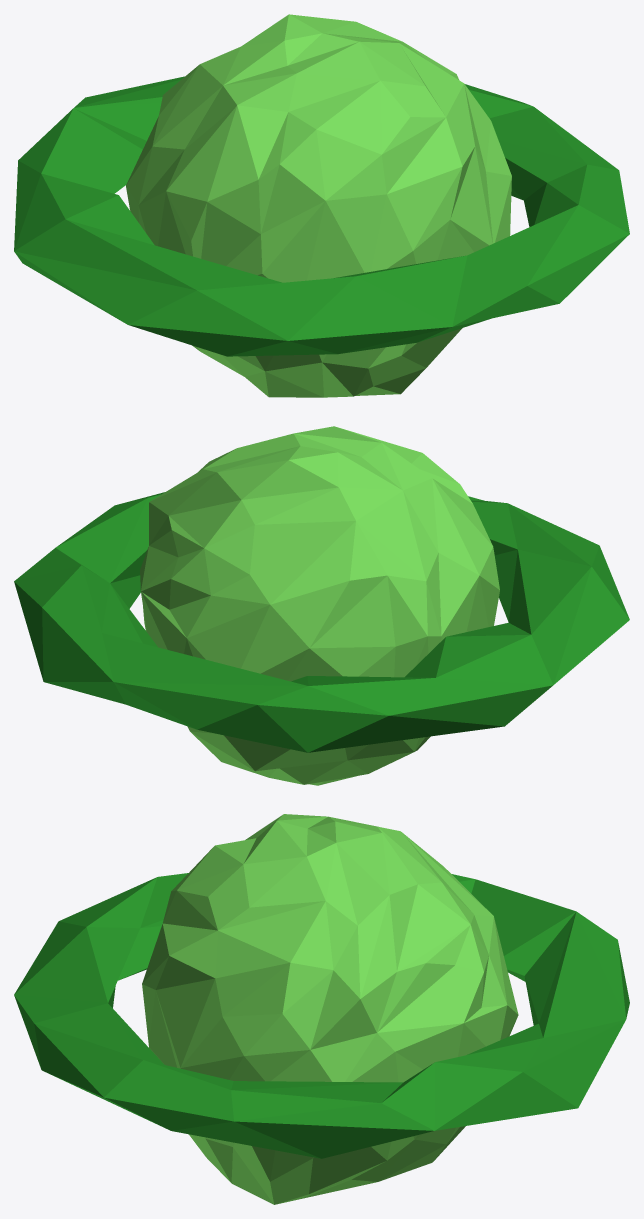
File: ring_planet2.fbx
3 renders of one model, top to bottom at view 1: azimuth 30°, elevation 25°; view 2: azimuth 150°, elevation 25°; view 3: azimuth 270°, elevation 25°, orthographic. The views are drawn at different scales.
Visible parts, largest first — view 1: ring_planet2; view 2: ring_planet2; view 3: ring_planet2.
Boxes of the visible parts, bbox=[...] form: ring_planet2: bbox=[14, 14, 629, 397]; ring_planet2: bbox=[14, 426, 629, 785]; ring_planet2: bbox=[14, 814, 629, 1204].
Bounding box in the file's own units: 349 × 221 × 347.
